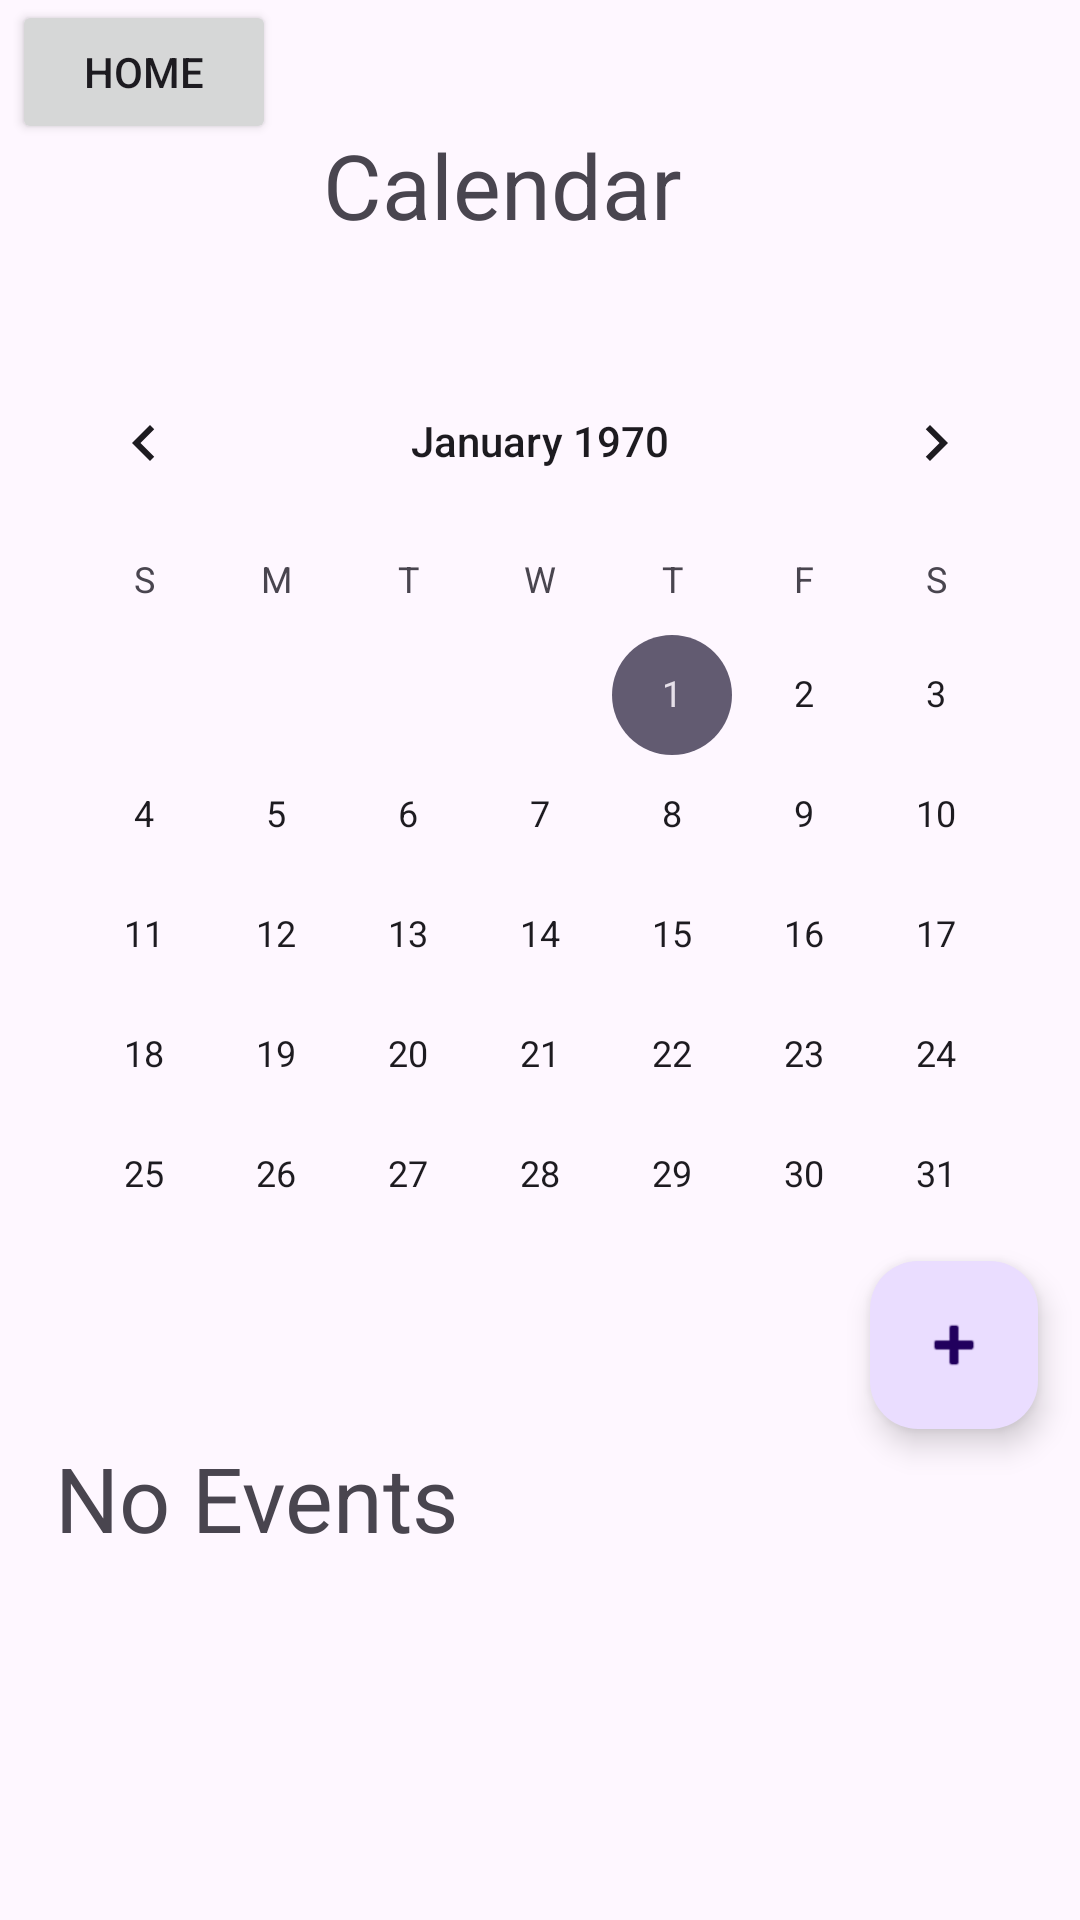

Named icons in this screenshot (1080px×1920px) and their centers, (x,y):
add: (954,1345)
